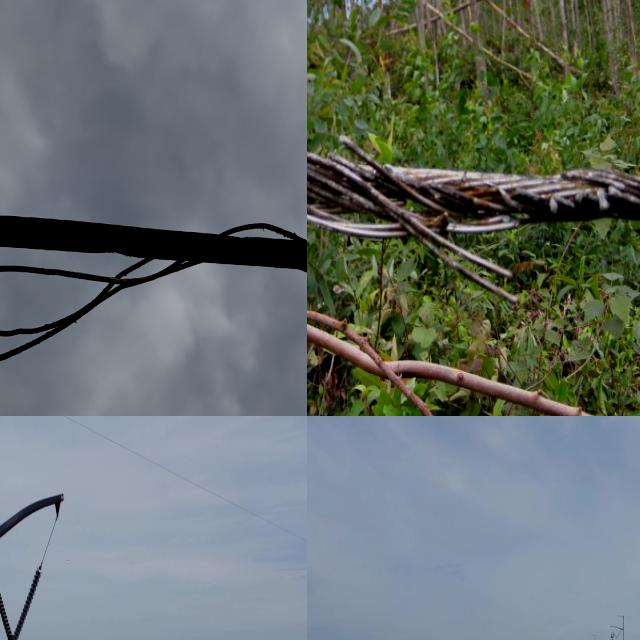正常绝缘子: (0, 563, 45, 640)
电缆破损: (307, 124, 640, 292), (0, 203, 307, 378)
